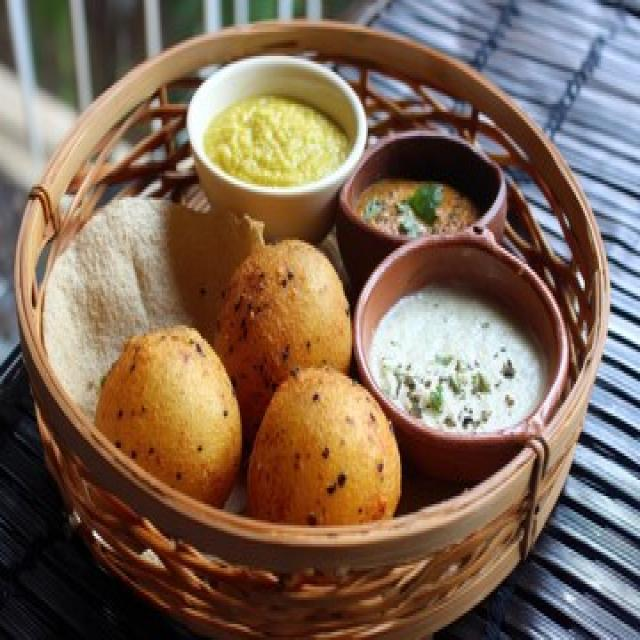BONDA: (91, 239, 405, 526)
RED CHUTNEY: (354, 170, 486, 236)
SWEET: (208, 99, 348, 185)
WHITE CHUTNEY: (370, 292, 549, 435)
